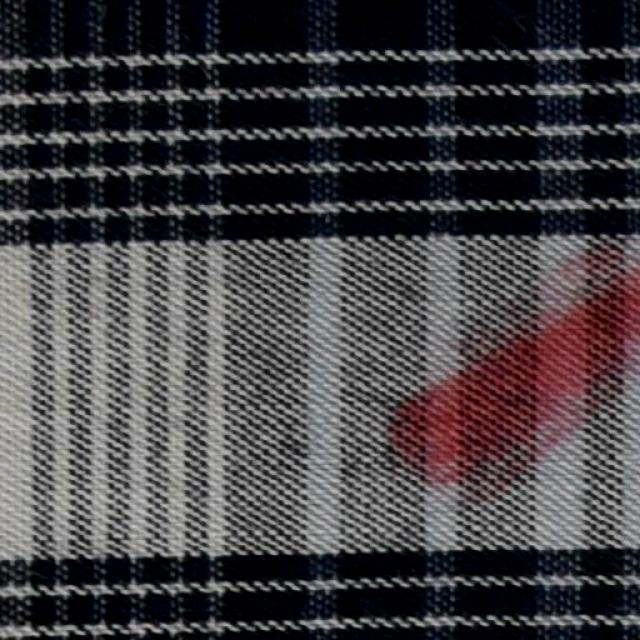Stain: (385, 271, 639, 486)
